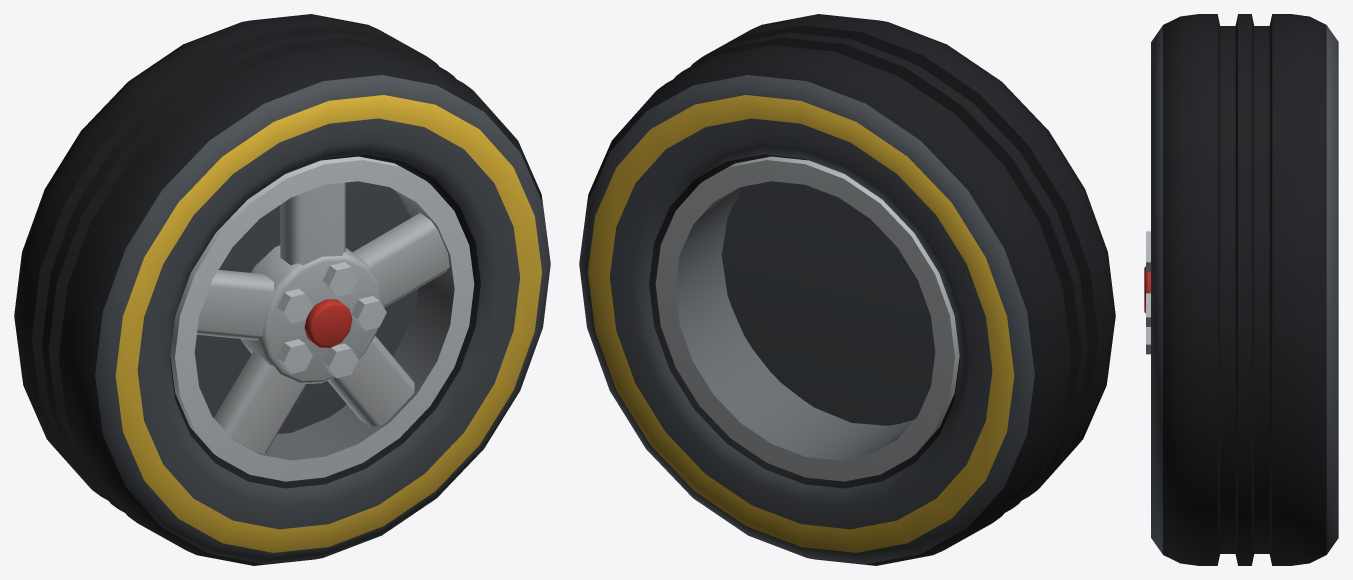
File: Wheel_01.glb
3 renders of one model, left to right at view 1: azimuth 30°, elevation 25°; view 2: azimuth 150°, elevation 25°; view 3: azimuth 270°, elevation 25°, orthographic.
Parts seen in each view (by area): view 1: SM_Wheel_01; view 2: SM_Wheel_01; view 3: SM_Wheel_01.
Boxes of the visible parts, x1=… form: SM_Wheel_01: x1=14, y1=14, x2=550, y2=565; SM_Wheel_01: x1=579, y1=14, x2=1115, y2=565; SM_Wheel_01: x1=1144, y1=14, x2=1338, y2=565.
Bounding box in the file's own units: 0.65 × 0.65 × 0.228.
1 material, 1 textured.
